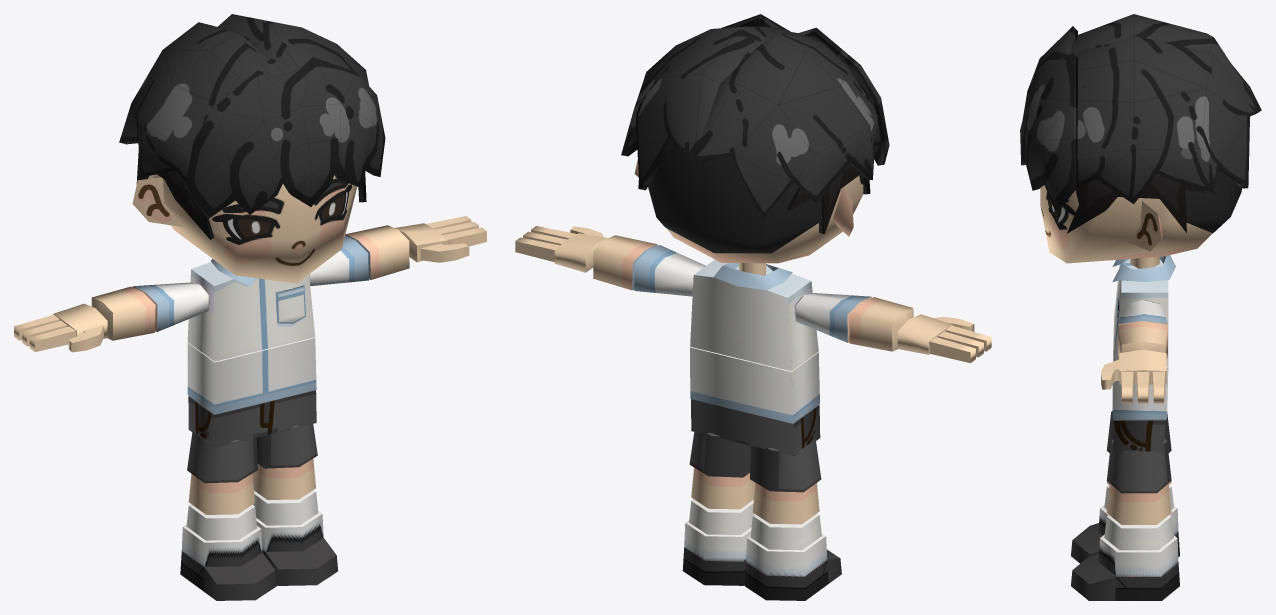
Rendered from defaultboy.fbx.
3 views of the same model, side by side, from view 1: azimuth 30°, elevation 25°; view 2: azimuth 150°, elevation 25°; view 3: azimuth 270°, elevation 25° (orthographic).
Parts seen in each view (by area): view 1: v1.6 kid base.001, boy hair, head; view 2: v1.6 kid base.001, boy hair, head; view 3: boy hair, v1.6 kid base.001, head.
Boxes of the visible parts, <box> form: v1.6 kid base.001: <box>14,216,486,600</box>; boy hair: <box>119,14,385,239</box>; head: <box>132,174,356,283</box>; v1.6 kid base.001: <box>515,226,991,600</box>; boy hair: <box>621,14,889,253</box>; head: <box>634,159,863,263</box>; boy hair: <box>1020,14,1261,233</box>; v1.6 kid base.001: <box>1071,255,1179,600</box>; head: <box>1040,185,1212,263</box>.
Bounding box in the file's own units: 3.53 × 4.03 × 1.63.
3 materials, 3 textured.
